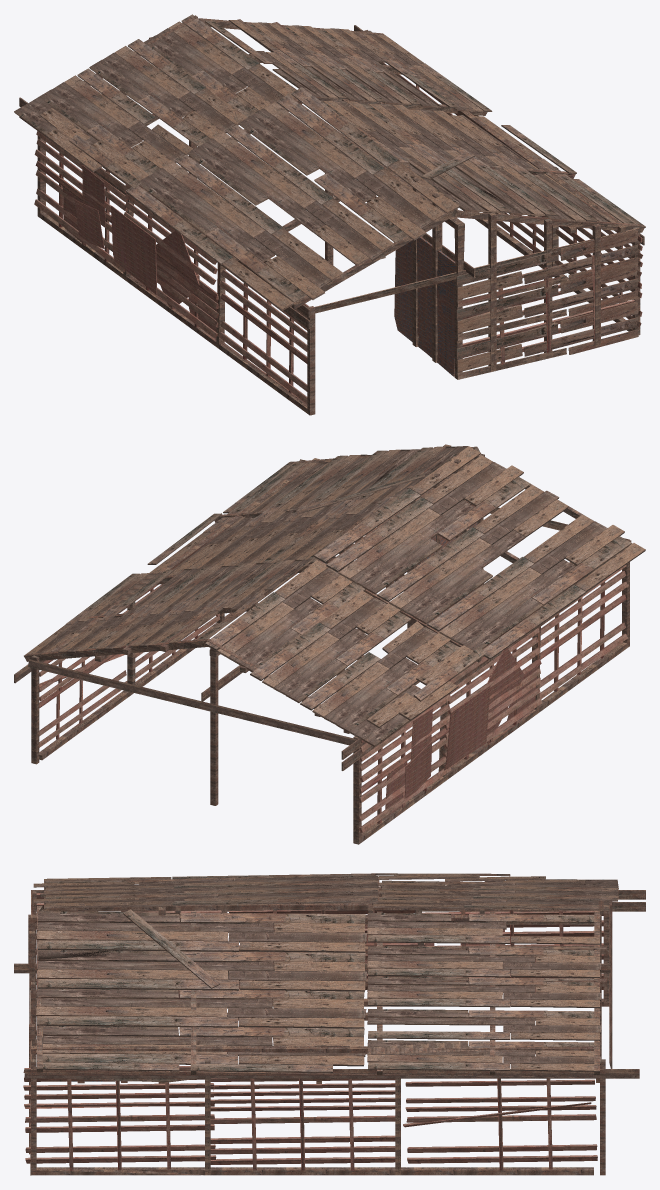
File: Barn.fbx
3 renders of one model, top to bottom at view 1: azimuth 30°, elevation 25°; view 2: azimuth 150°, elevation 25°; view 3: azimuth 270°, elevation 25°, orthographic. The views are drawn at different scales.
Visible parts, largest first — view 1: Group1; view 2: Group1; view 3: Group1.
Part boxes in pixels (x1,y1,x2,y2): Group1: (14,14,645,415); Group1: (14,444,645,844); Group1: (14,873,645,1175).
Size of the model in its own units: 354 by 162 by 499.
